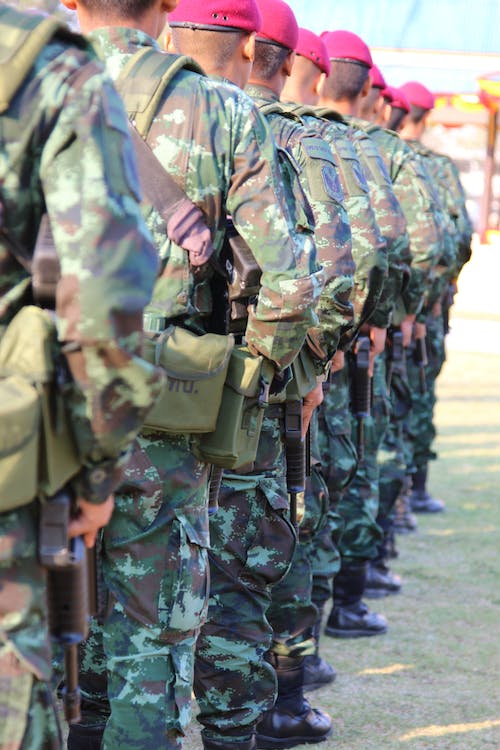gun: (33, 495, 96, 730), (197, 215, 265, 343), (282, 376, 311, 528), (348, 332, 377, 463), (414, 334, 435, 401)
